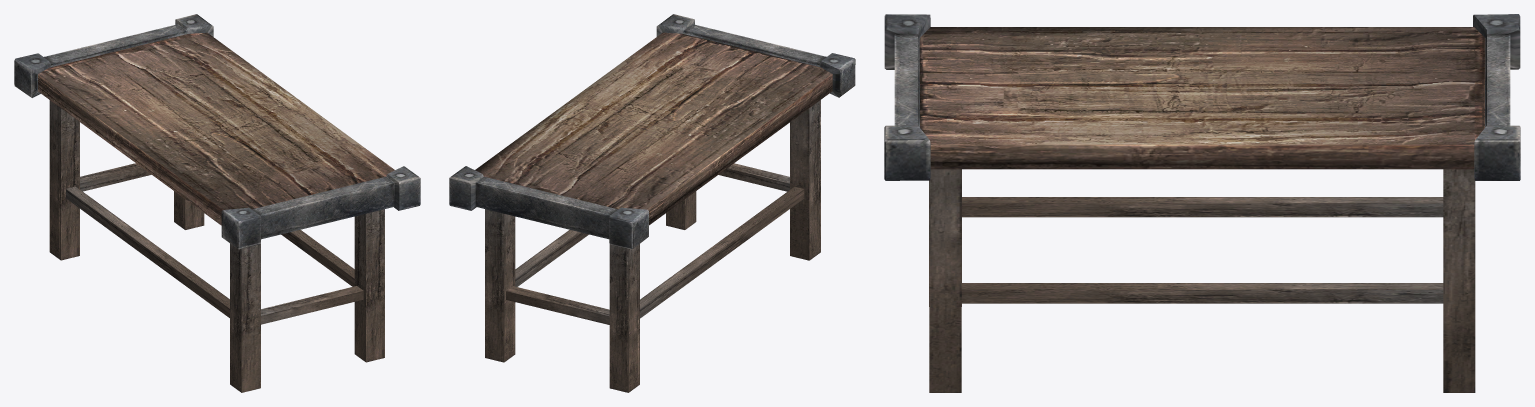
The model's file is bg_lut_lutomb_dt02_sm_old.FBX.
3 renders of one model, left to right at view 1: azimuth 30°, elevation 25°; view 2: azimuth 150°, elevation 25°; view 3: azimuth 270°, elevation 25°, orthographic. The views are drawn at different scales.
Visible parts, largest first — view 1: bg_lut_lutomb_dt02_sm_old; view 2: bg_lut_lutomb_dt02_sm_old; view 3: bg_lut_lutomb_dt02_sm_old.
Boxes of the visible parts, <box> form: bg_lut_lutomb_dt02_sm_old: <box>14,14,420,392</box>; bg_lut_lutomb_dt02_sm_old: <box>449,14,855,392</box>; bg_lut_lutomb_dt02_sm_old: <box>884,14,1520,392</box>.
Bounding box in the file's own units: 103 × 101 × 218.
